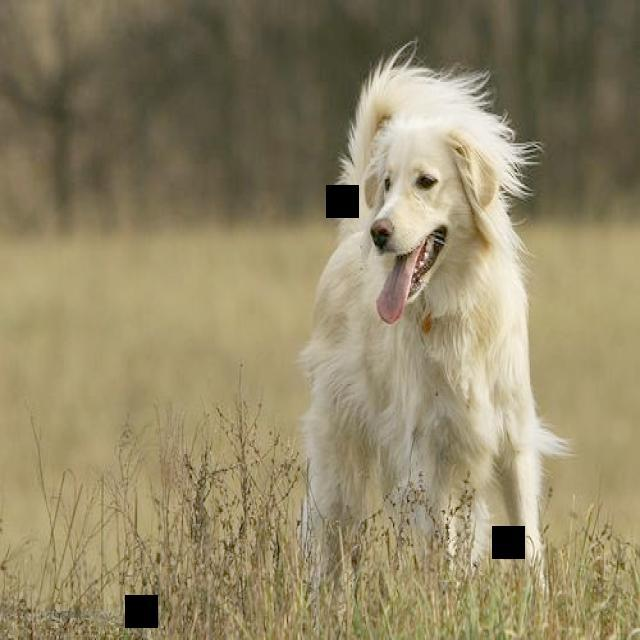adult_dog: (287, 33, 580, 615)
